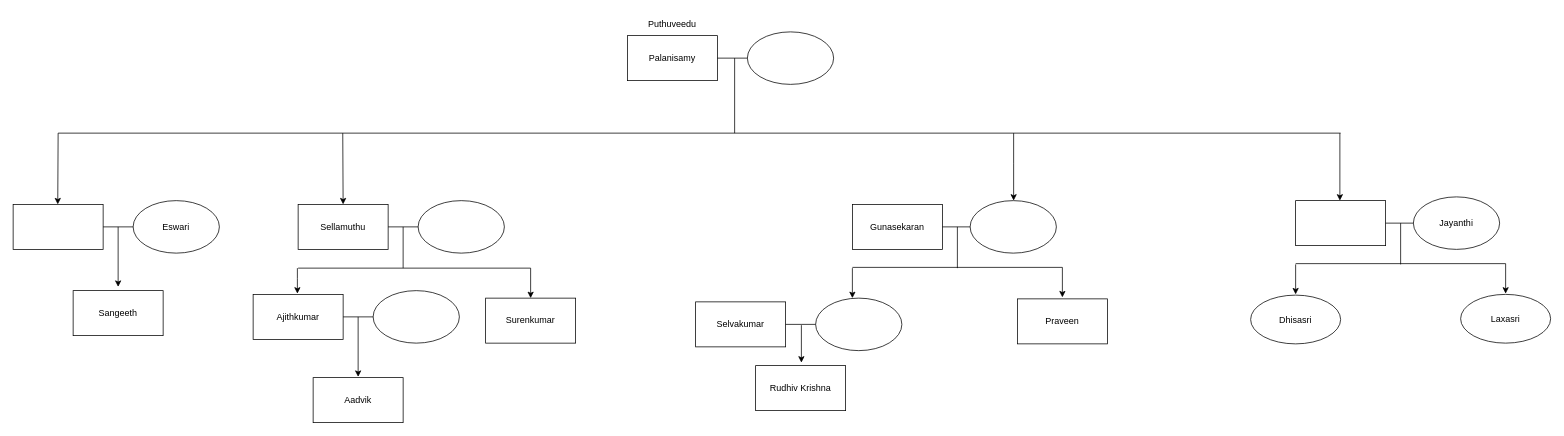
Some shapes in this 1564 by 436 pixel diagram are drawn without their labels. Here are the shapes that lost their labels. From the top down, the centre of each, then its label:
At [790,57]: "Valliammal".
At [57,226]: "Kuppusamy".
At [460,226]: "Pooranam".
At [1012,226]: "Muthulakshmi".
At [1340,223]: "Muthusamy".
At [415,316]: "Swetha".
At [858,324]: "JayaBrindha".
